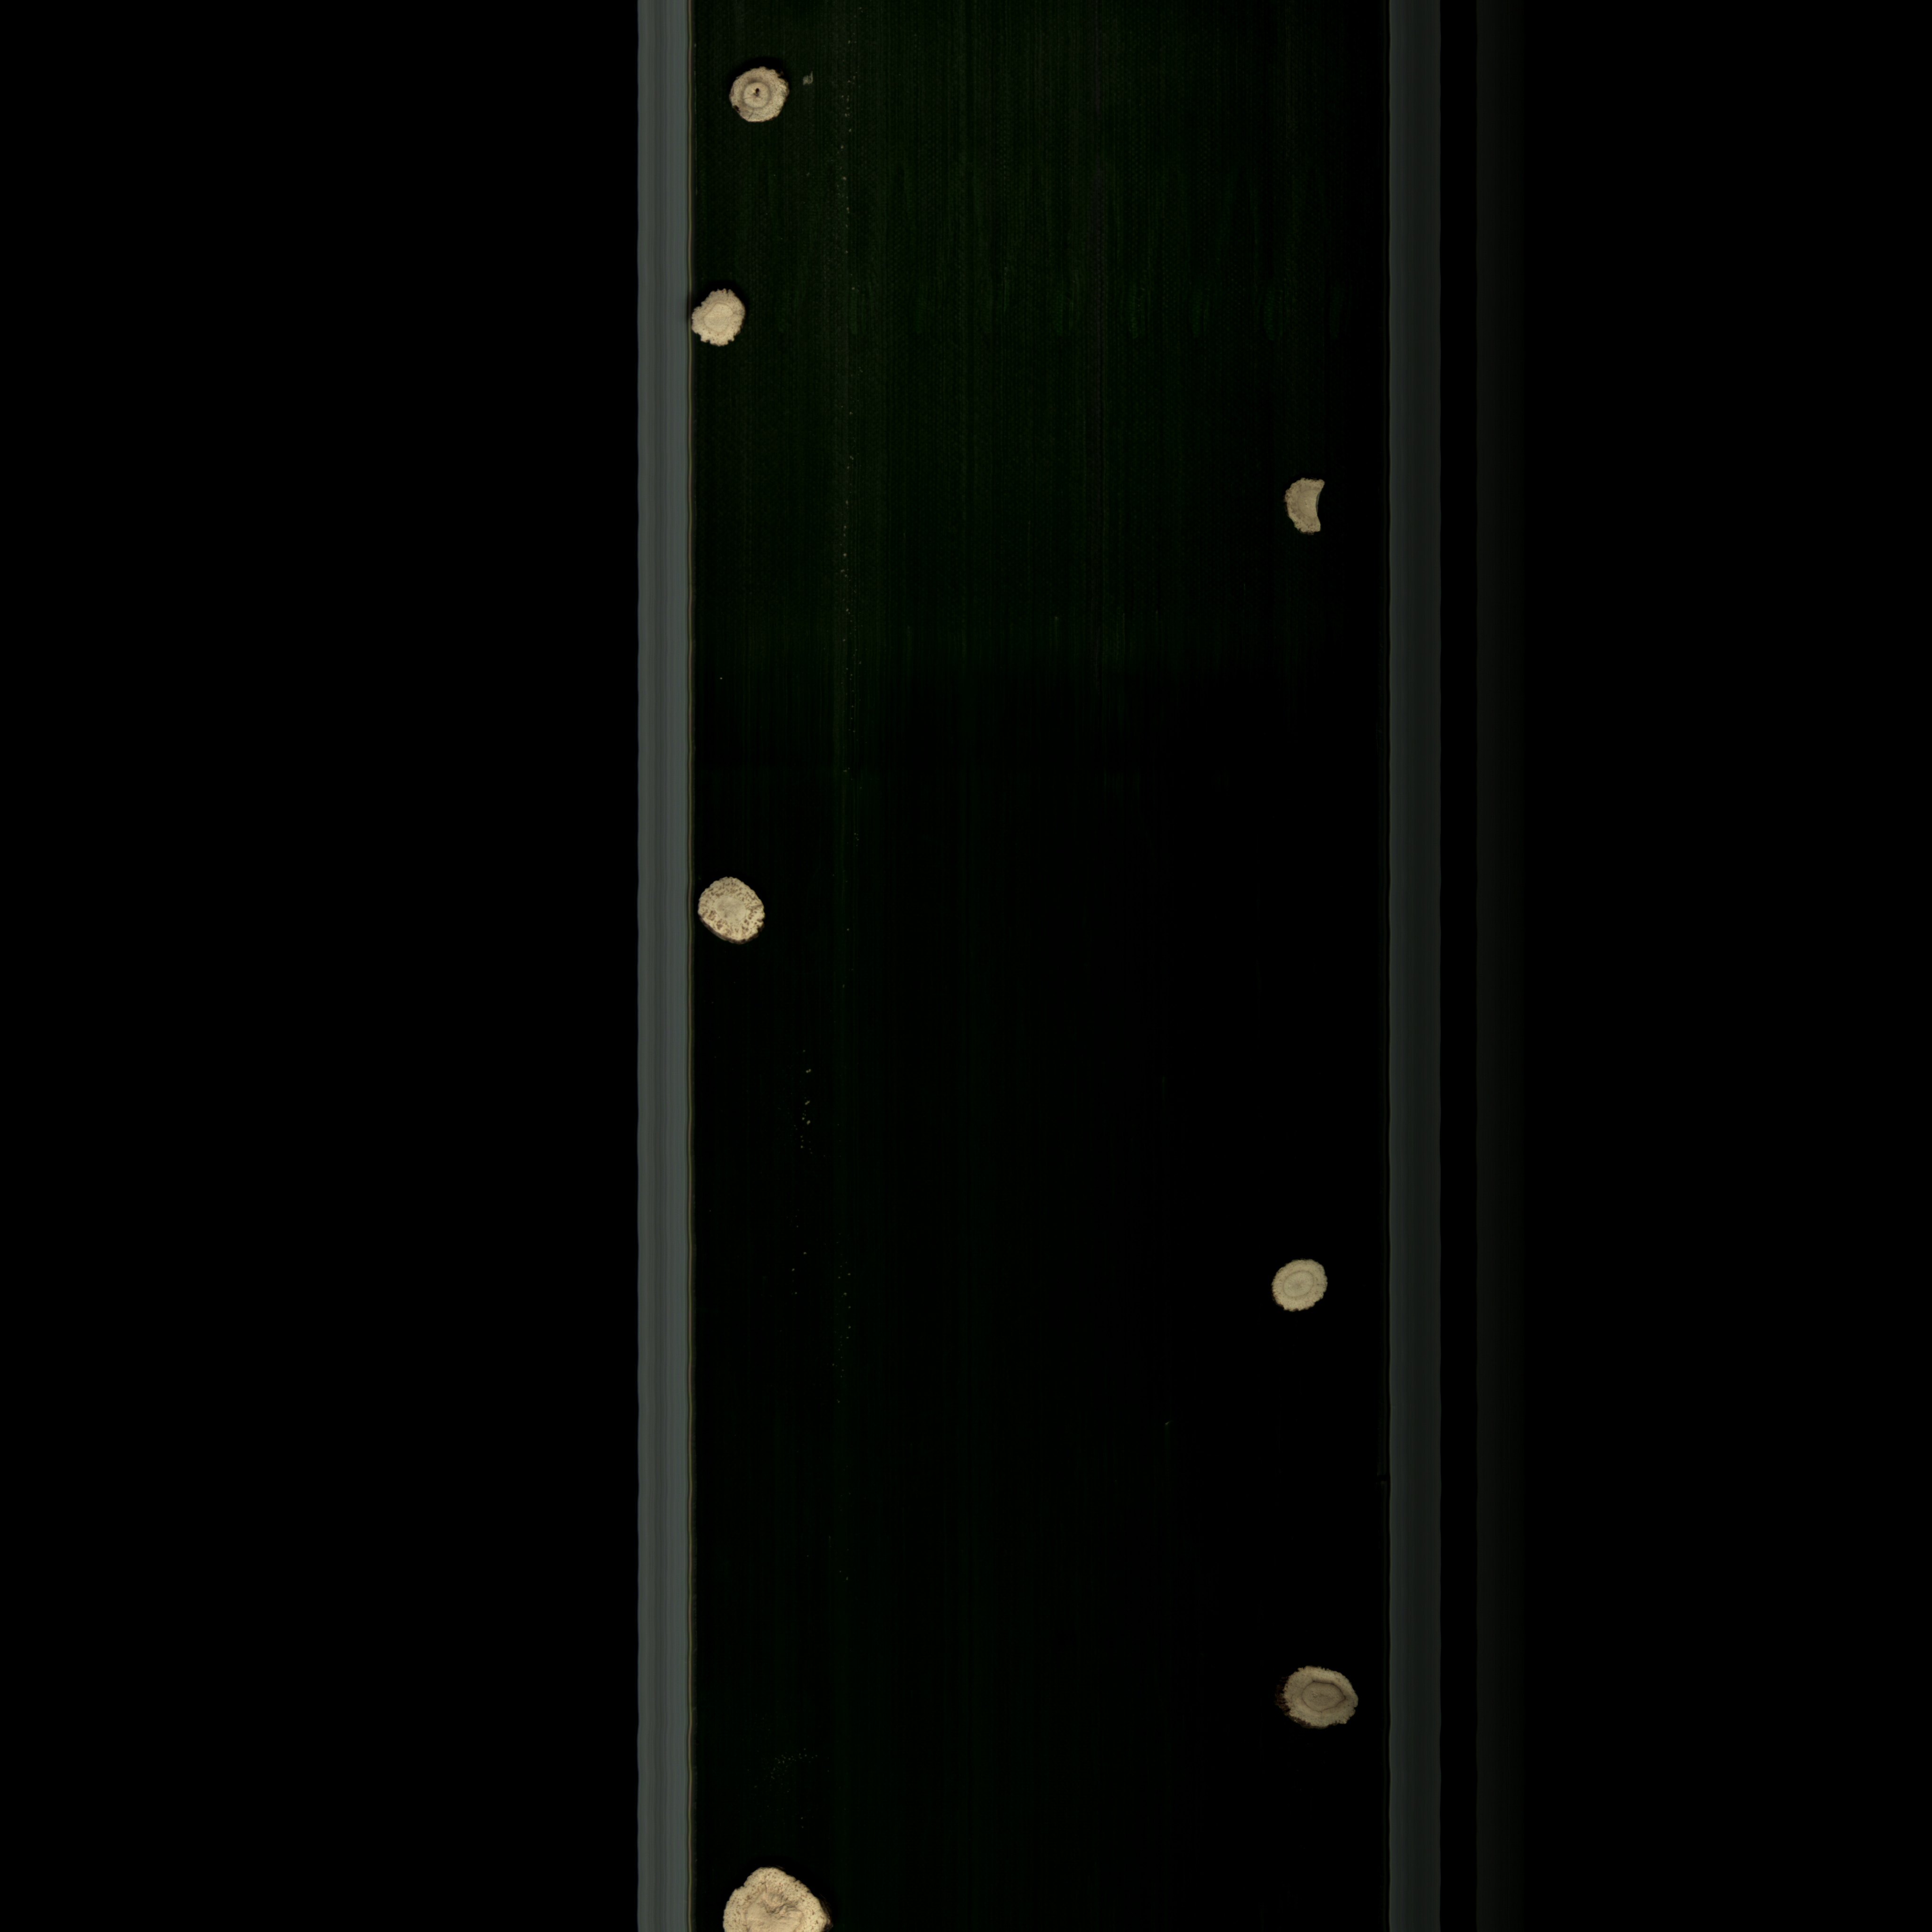debris: (1263, 462, 1339, 545)
distortion: (683, 274, 761, 359)
moldy: (1256, 1654, 1389, 1762), (709, 44, 798, 150)
